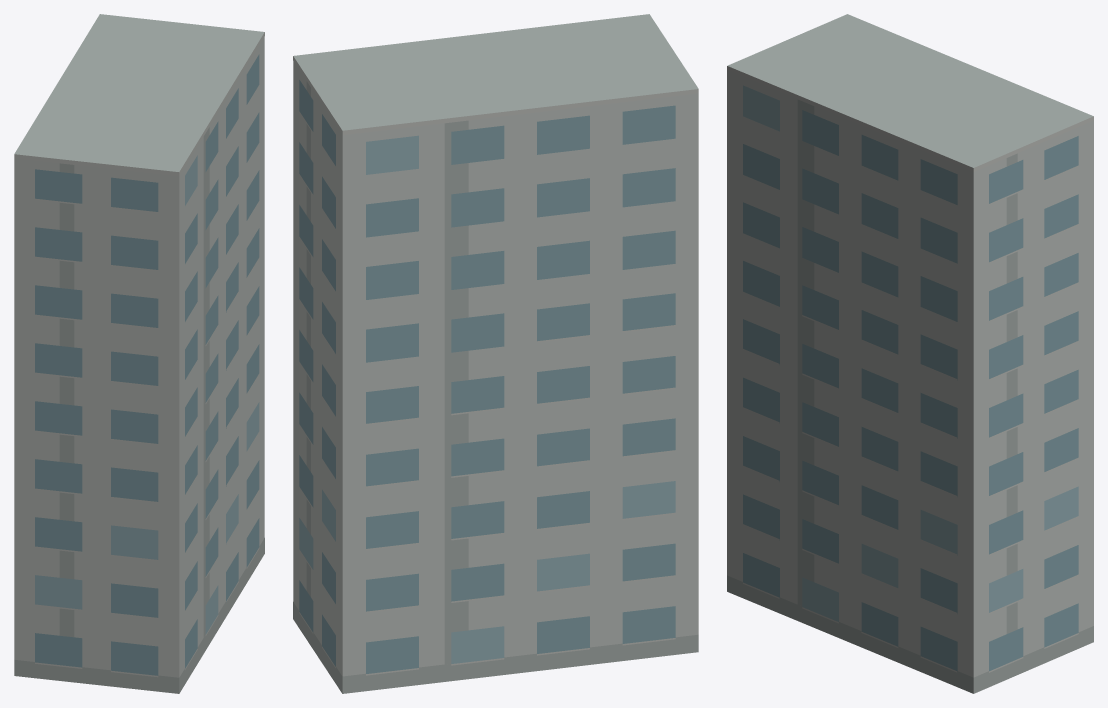
File: residential-4edffe9a-02bf-43fa-85ca-1d0e8d2cfa40.glb
3 views of the same model, side by side, from view 1: azimuth 30°, elevation 25°; view 2: azimuth 150°, elevation 25°; view 3: azimuth 270°, elevation 25° (orthographic). The views are drawn at different scales.
Parts seen in each view (by area): view 1: residential-4edffe9a-02bf-43fa-85ca-1d0e8d2cfa40.tmp; view 2: residential-4edffe9a-02bf-43fa-85ca-1d0e8d2cfa40.tmp; view 3: residential-4edffe9a-02bf-43fa-85ca-1d0e8d2cfa40.tmp.
Boxes of the visible parts, box(x1,y1,x2,y2) form: residential-4edffe9a-02bf-43fa-85ca-1d0e8d2cfa40.tmp: box(14, 14, 264, 693); residential-4edffe9a-02bf-43fa-85ca-1d0e8d2cfa40.tmp: box(293, 14, 698, 693); residential-4edffe9a-02bf-43fa-85ca-1d0e8d2cfa40.tmp: box(727, 14, 1093, 693).
Bounding box in the file's own units: 18.85 × 30 × 18.97.
